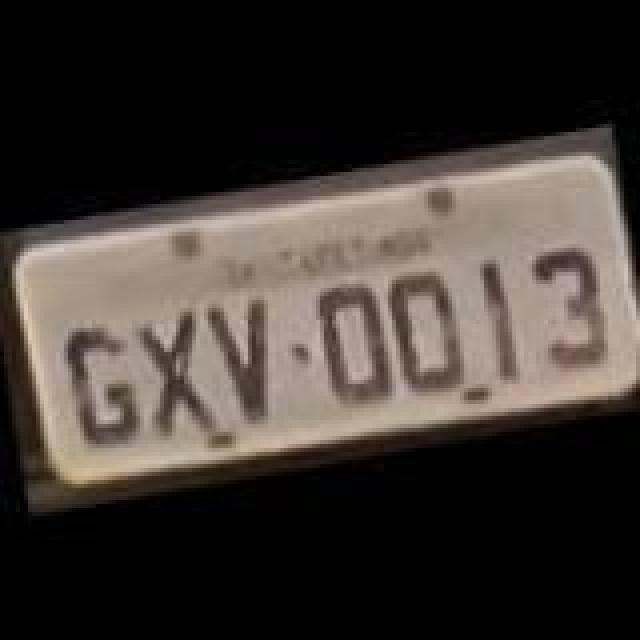1: (464, 246, 528, 386)
3: (520, 240, 624, 376)
G: (52, 320, 152, 456)
O: (374, 260, 474, 400), (302, 272, 402, 408)
V: (202, 288, 294, 428)
X: (128, 302, 224, 446)
